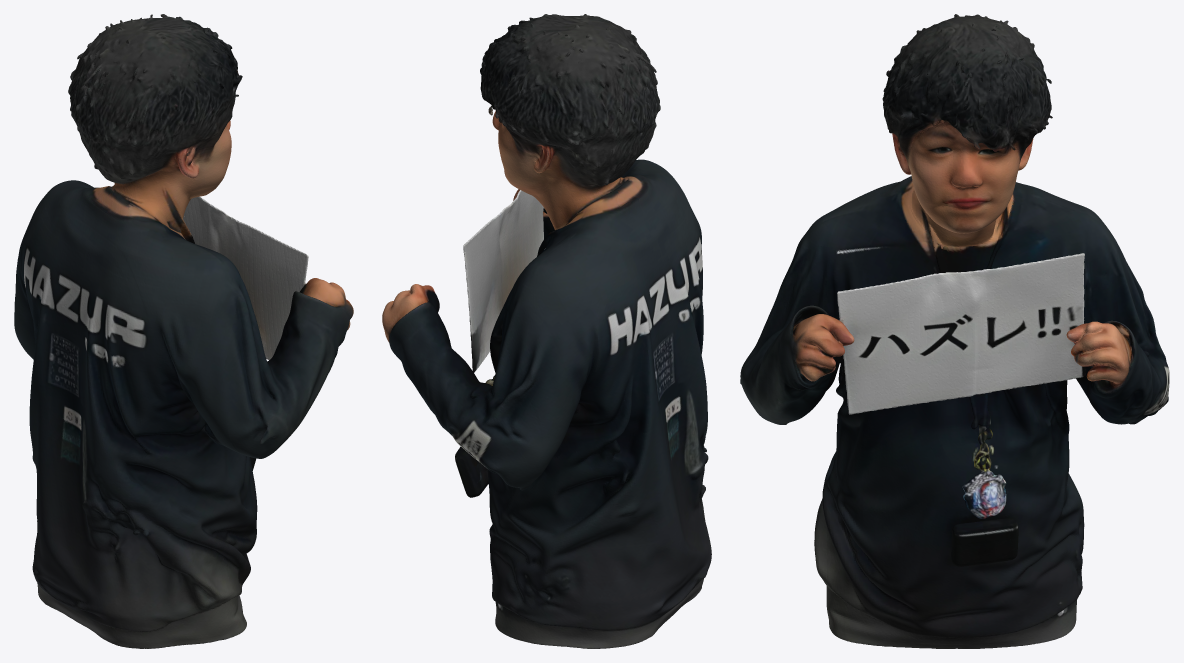
3 renders of one model, left to right at view 1: azimuth 30°, elevation 25°; view 2: azimuth 150°, elevation 25°; view 3: azimuth 270°, elevation 25°, orthographic. The views are drawn at different scales.
Parts seen in each view (by area): view 1: tripo_node_5ceee445-55ad-432b-8c05-f2f7c43ea5b0; view 2: tripo_node_5ceee445-55ad-432b-8c05-f2f7c43ea5b0; view 3: tripo_node_5ceee445-55ad-432b-8c05-f2f7c43ea5b0.
Part boxes in pixels (box(x1,y1,x2,y2)): tripo_node_5ceee445-55ad-432b-8c05-f2f7c43ea5b0: box(14, 14, 353, 648); tripo_node_5ceee445-55ad-432b-8c05-f2f7c43ea5b0: box(382, 14, 711, 648); tripo_node_5ceee445-55ad-432b-8c05-f2f7c43ea5b0: box(740, 14, 1169, 648).
Size of the model in its own units: 0.4293 by 1 by 0.6531.
1 material, 1 textured.
